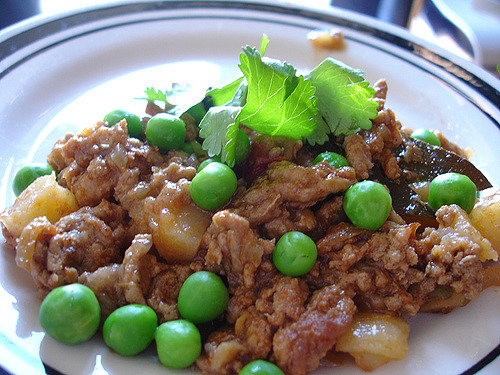boiled peas: (35, 285, 200, 362), (193, 163, 240, 212)
